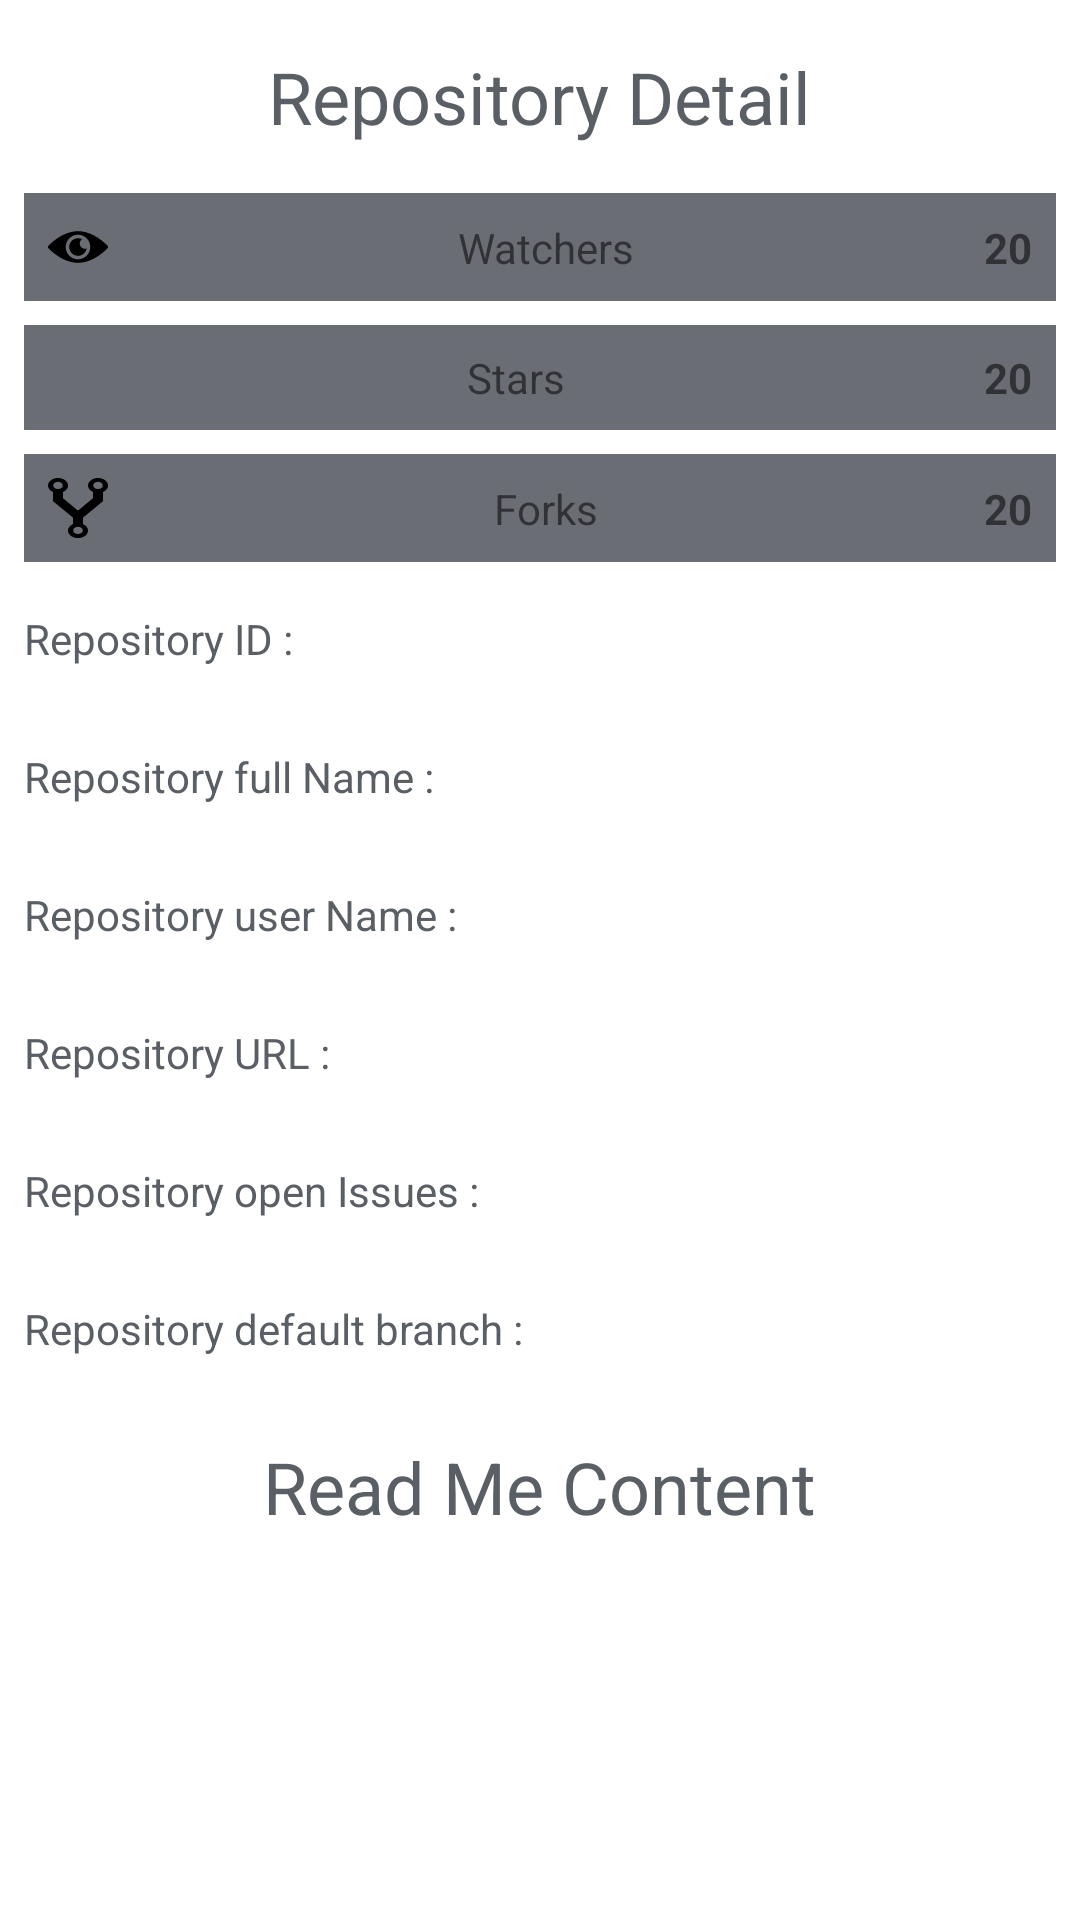

Where to tap for icons on this 1080×1920 app screen, as (x,y):
fork: (78,508)
watchers: (78,247)
